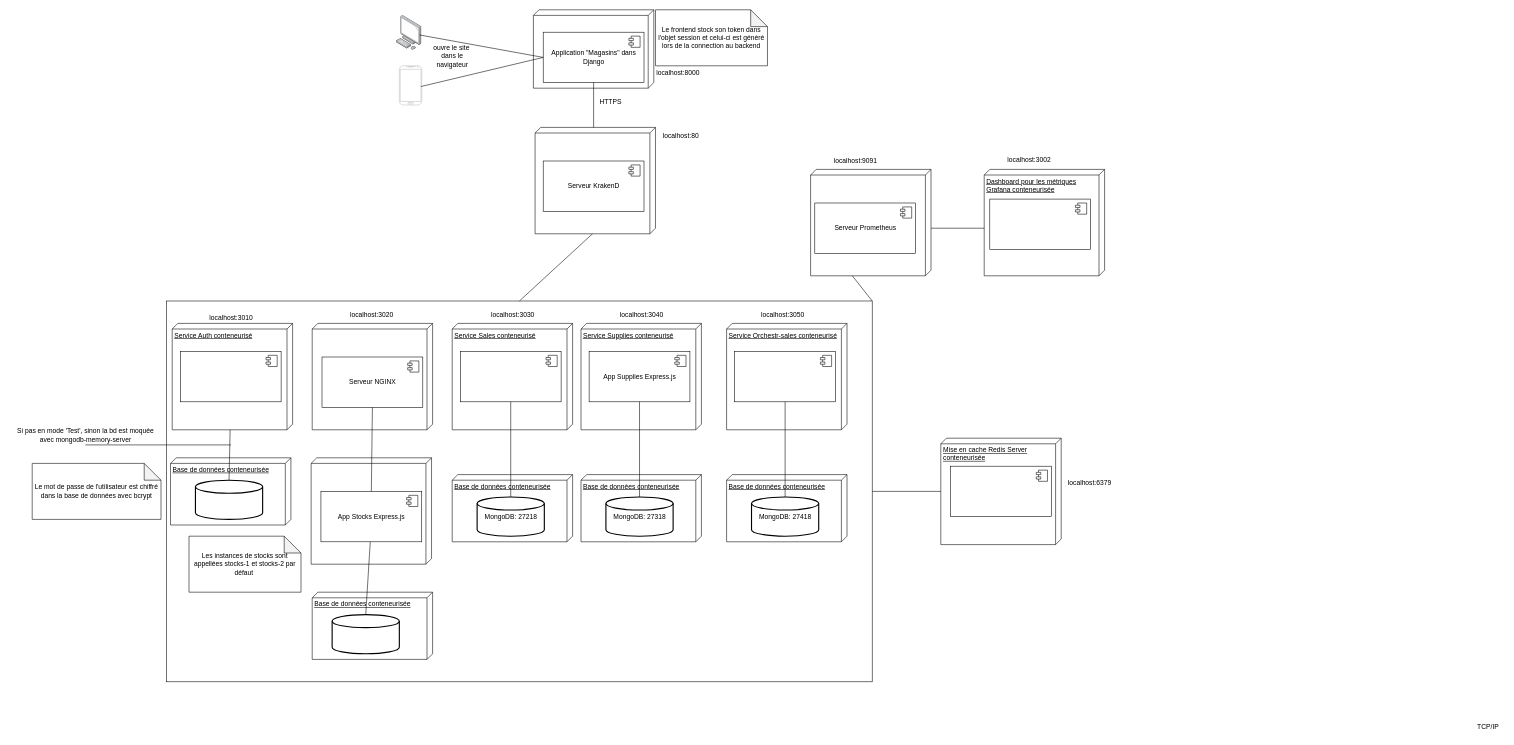
The diagram is 1514 pixels wide and 745 high, and some of its shapes have lost their labels. The box of each missing label's shape, as (x1, y1, x2, y2) in pixels:
API Gateway conteneurisée: (535, 127, 655, 234)
App Auth Express.js: (180, 351, 281, 402)
App Orchestration-Sales Express.js: (734, 351, 836, 402)
App Sales Express.js: (460, 351, 561, 402)
Collecte des métriques Prometheus conteneurisée: (810, 169, 931, 276)
Instances de service Stocks conteneurisées: (311, 457, 432, 564)
Load Balancer NGINX conteneurisé: (312, 323, 433, 430)
MongoDB: 27018: (195, 479, 263, 520)
MongoDB: 27118: (331, 614, 400, 654)
Serveur Django frontend: (533, 9, 654, 88)
Serveur Grafana: (989, 199, 1091, 249)
Serveur Redis: (950, 466, 1051, 517)
